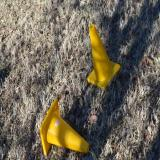cone: (40, 99, 90, 156), (87, 24, 121, 90)
